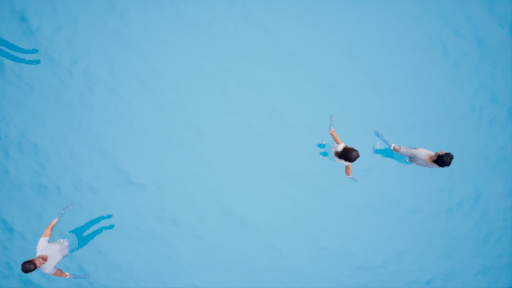person: (15, 205, 119, 278), (369, 125, 458, 173), (317, 111, 364, 183)
